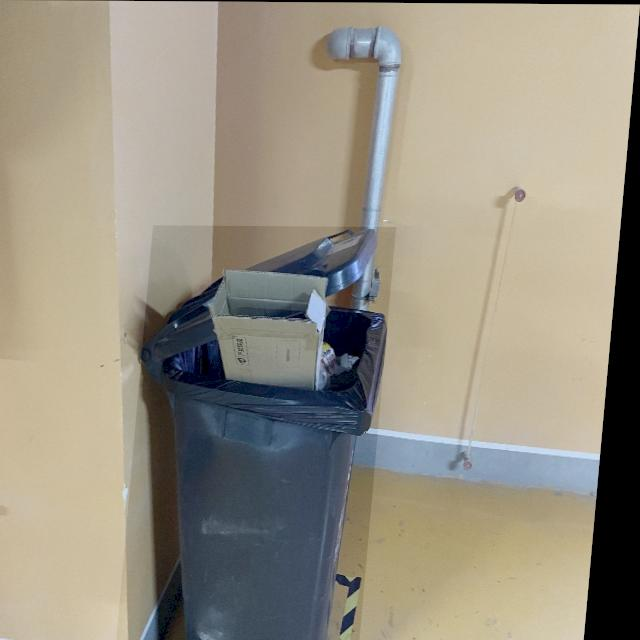overflow: (128, 225, 400, 640)
